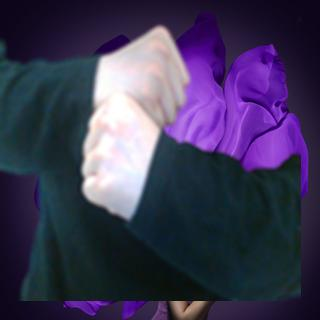CAREFUL: (68, 21, 195, 225)
